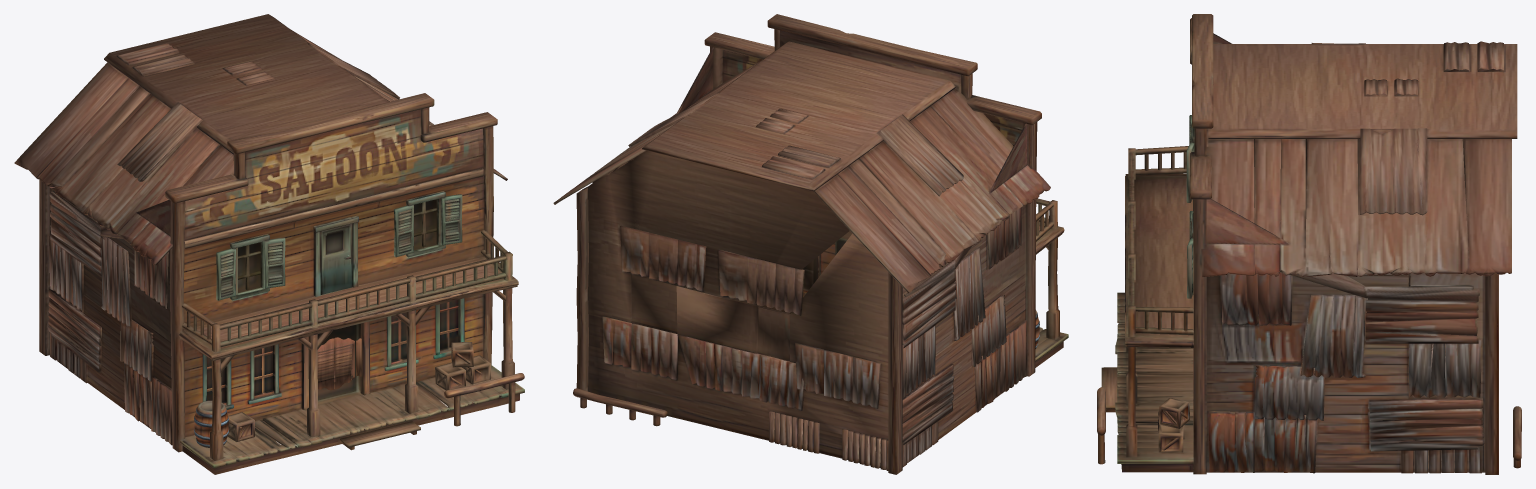
Rendered from wl_saloon.glb.
The picture shows the model from 3 angles, left to right: view 1: azimuth 30°, elevation 25°; view 2: azimuth 150°, elevation 25°; view 3: azimuth 270°, elevation 25°; orthographic projection. The views are drawn at different scales.
Visible parts, largest first — view 1: wl_saloon; view 2: wl_saloon; view 3: wl_saloon.
Boxes of the visible parts, x1,y1,x2,y2 form: wl_saloon: (14,14,524,474); wl_saloon: (553,14,1068,474); wl_saloon: (1097,14,1521,474).
Bounding box in the file's own units: 0.9995 × 0.7856 × 0.938.
1 material, 1 textured.
